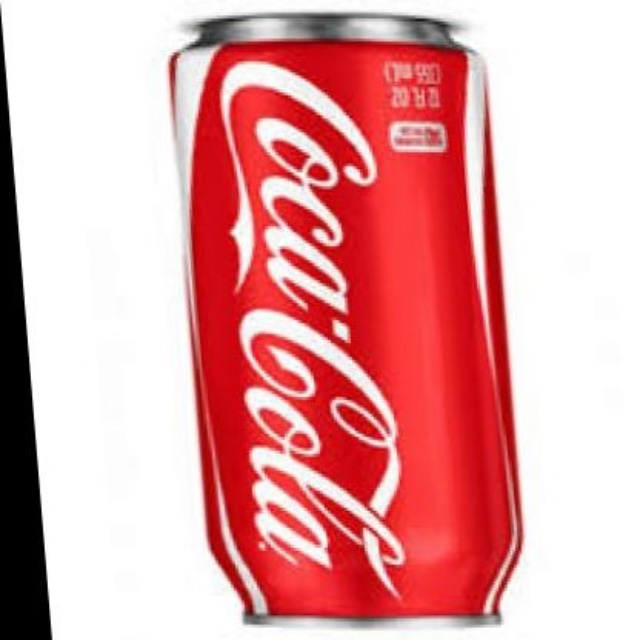trash: (171, 14, 520, 620)
